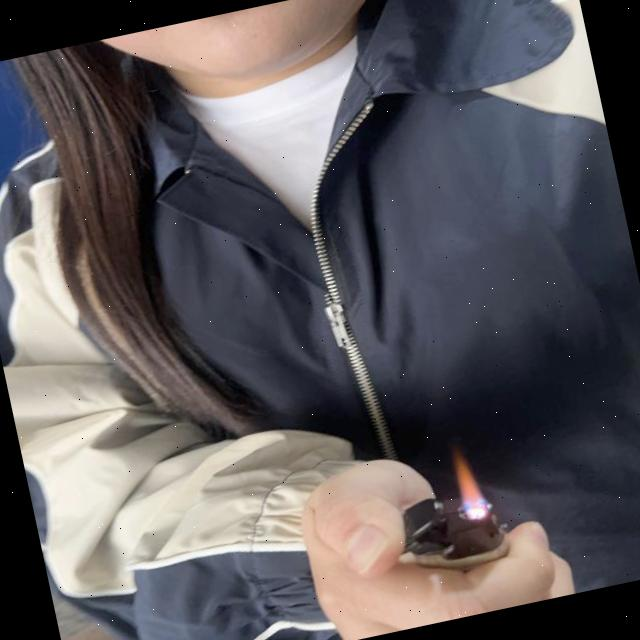fire: (450, 448, 492, 521)
